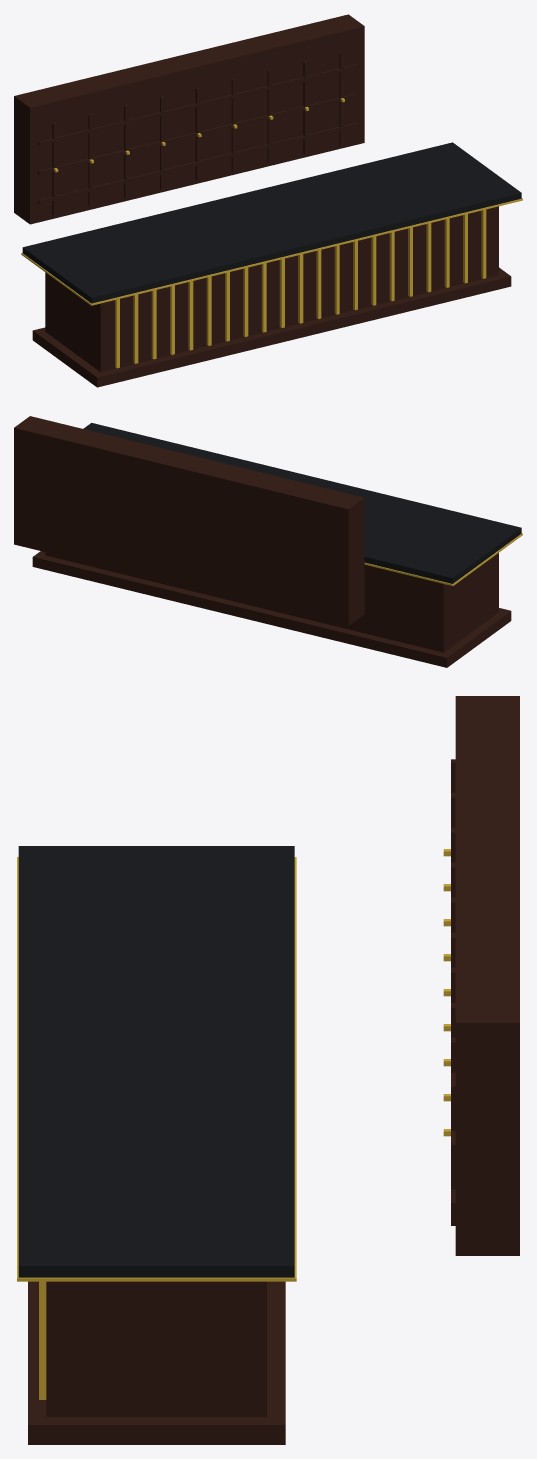
File: HotelLobby_ReceptionDesk.obj
The picture shows the model from 3 angles, top to bottom: view 1: azimuth 30°, elevation 25°; view 2: azimuth 150°, elevation 25°; view 3: azimuth 270°, elevation 25°; orthographic projection. The views are drawn at different scales.
Size of the model in its own units: 5.42 by 2.3 by 2.74.
